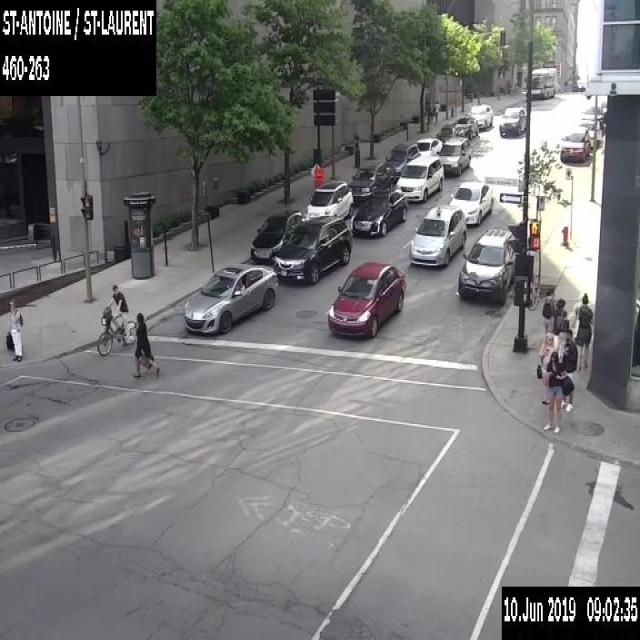bus: (530, 66, 556, 98)
construction: (314, 167, 323, 184)
cyclist: (96, 281, 138, 359)
pedestrian: (542, 350, 566, 432), (570, 292, 594, 370), (133, 312, 160, 377), (536, 331, 557, 405), (560, 328, 577, 411), (4, 298, 22, 362), (541, 289, 555, 334), (553, 297, 565, 343), (558, 309, 568, 360), (432, 99, 440, 123), (425, 100, 432, 123)
vehicle: (326, 258, 408, 338), (183, 263, 276, 333), (273, 215, 352, 284), (458, 228, 515, 304), (409, 203, 466, 265), (350, 187, 408, 236), (250, 209, 302, 261), (395, 154, 443, 202), (347, 159, 395, 204), (304, 179, 354, 221), (448, 180, 492, 224), (384, 143, 420, 182), (436, 135, 470, 175), (559, 126, 590, 161), (498, 106, 526, 137), (576, 119, 601, 148), (454, 114, 478, 139), (435, 122, 464, 142), (415, 136, 443, 156), (470, 103, 492, 128), (580, 105, 604, 126), (597, 97, 608, 114)
